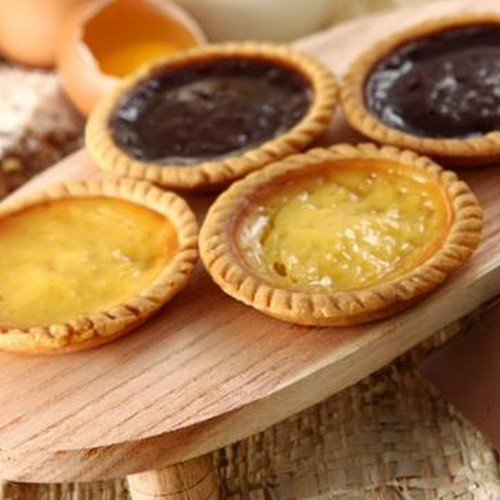pie susu: (210, 179, 471, 336), (92, 48, 323, 167), (10, 193, 175, 339), (349, 37, 497, 151)
